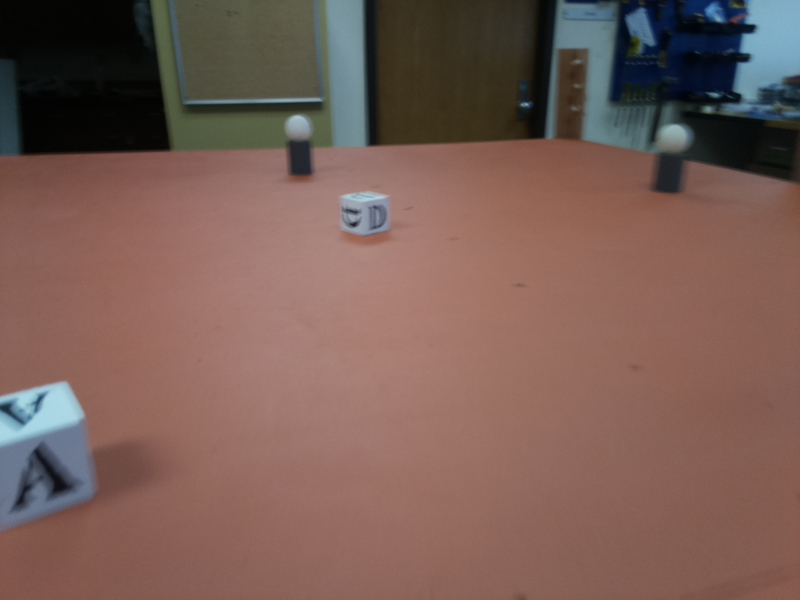blockA: (2, 372, 96, 531)
blockD: (339, 189, 393, 242)
corner: (554, 46, 590, 141)
obstacle: (651, 124, 694, 192), (285, 115, 313, 177)
